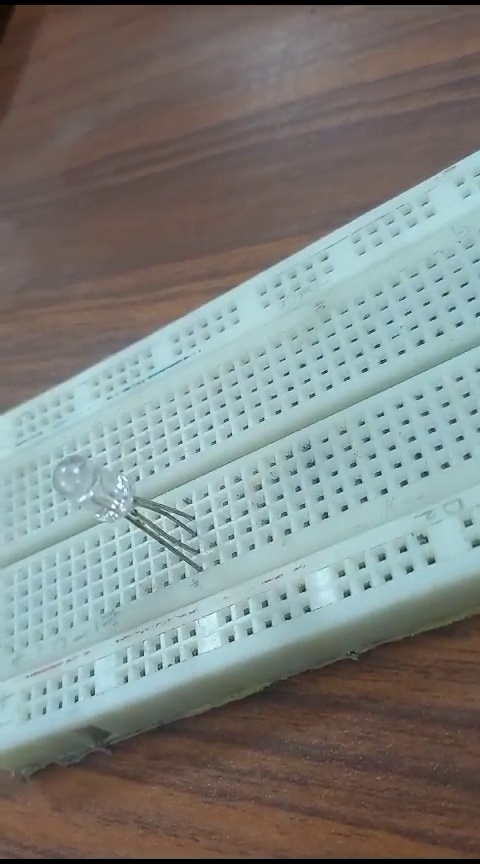LED: (36, 441, 203, 567)
